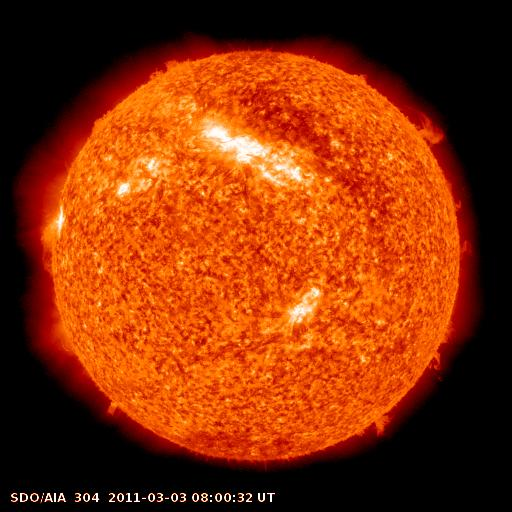prominence: (402, 96, 455, 159), (442, 184, 480, 269), (419, 315, 461, 379), (140, 52, 202, 90), (349, 405, 403, 446), (91, 388, 138, 431)
